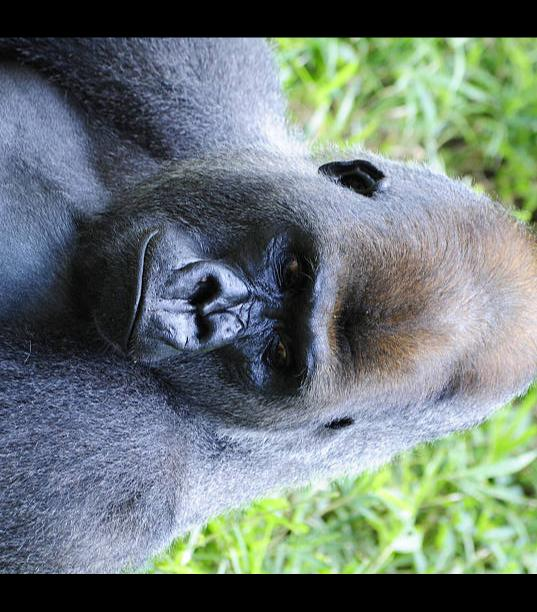gorille_Autres: (0, 40, 537, 574)
